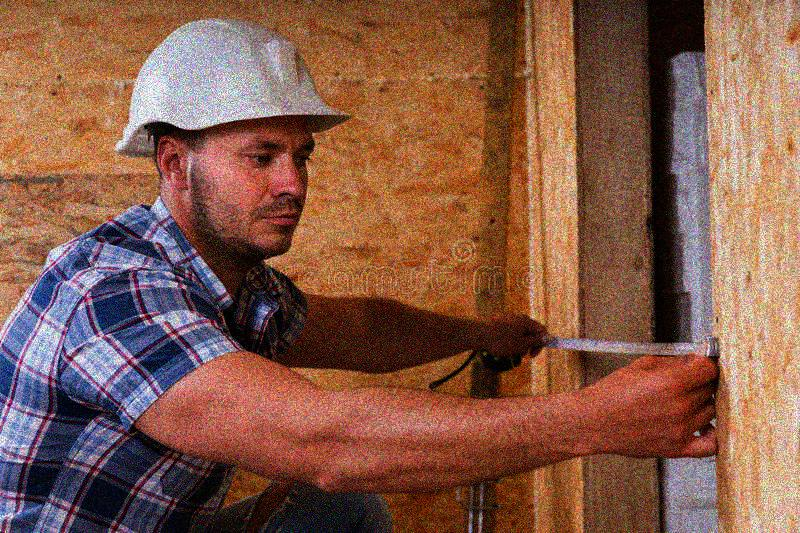helmet: (117, 13, 346, 261)
